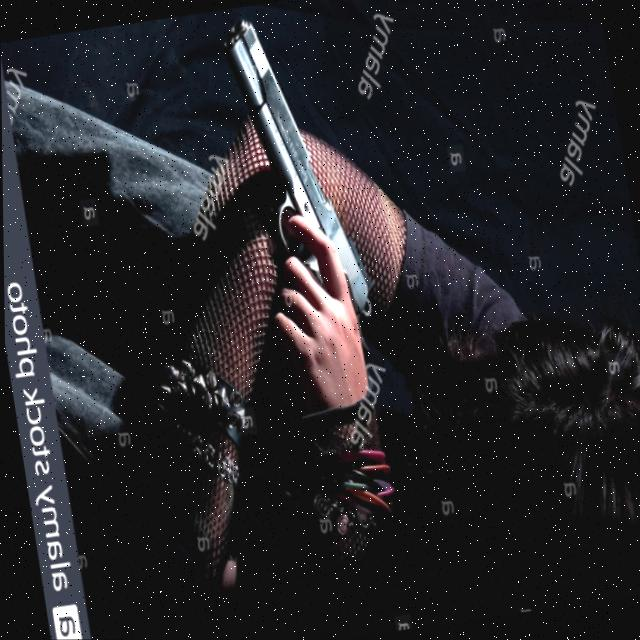pistol: (220, 5, 372, 331)
